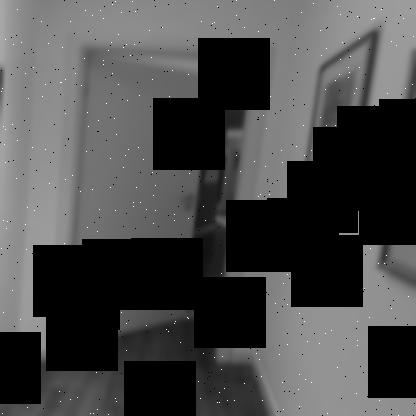Porte: (47, 38, 276, 364)
